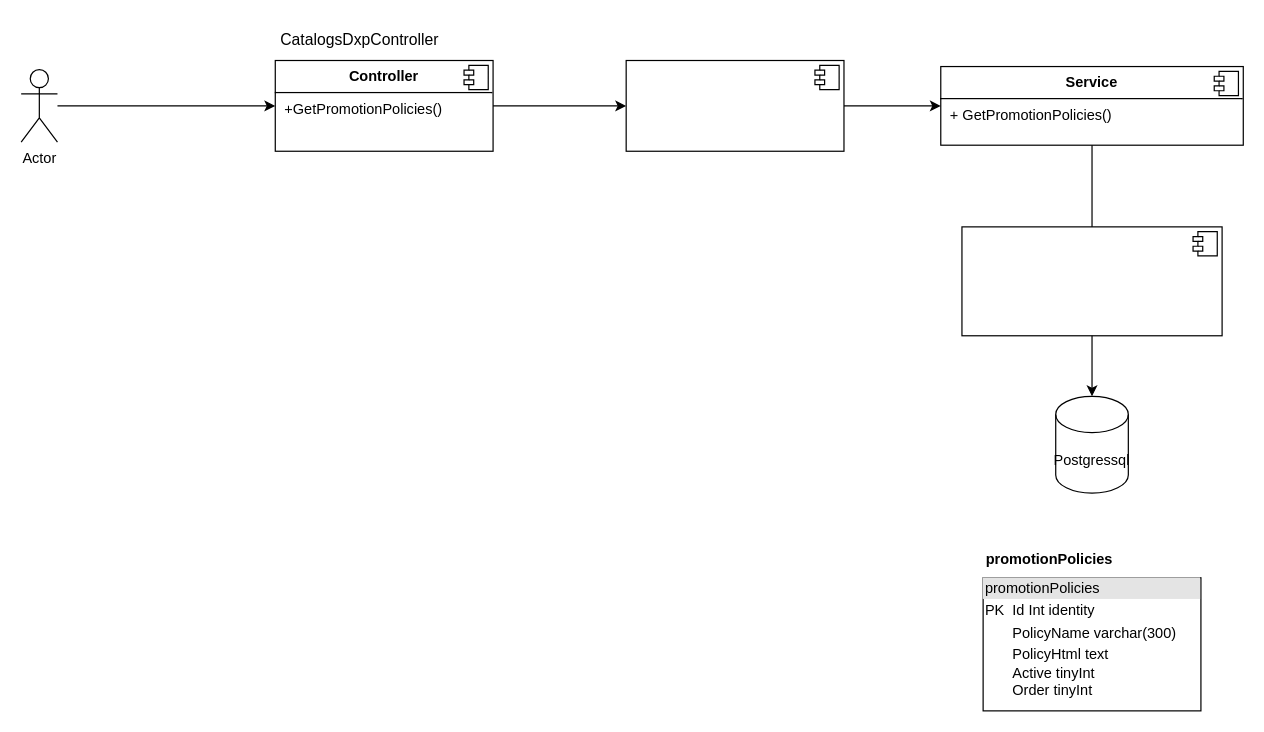
This 1264x732 diagram has some shape labels left out. Here are the shapes that lost their labels. From the top down, the centre of each, then its label:
point 734,105: Facade + GetPromotionPolicies()
point 1091,281: DAO + GetActivePromotionPolicies()
